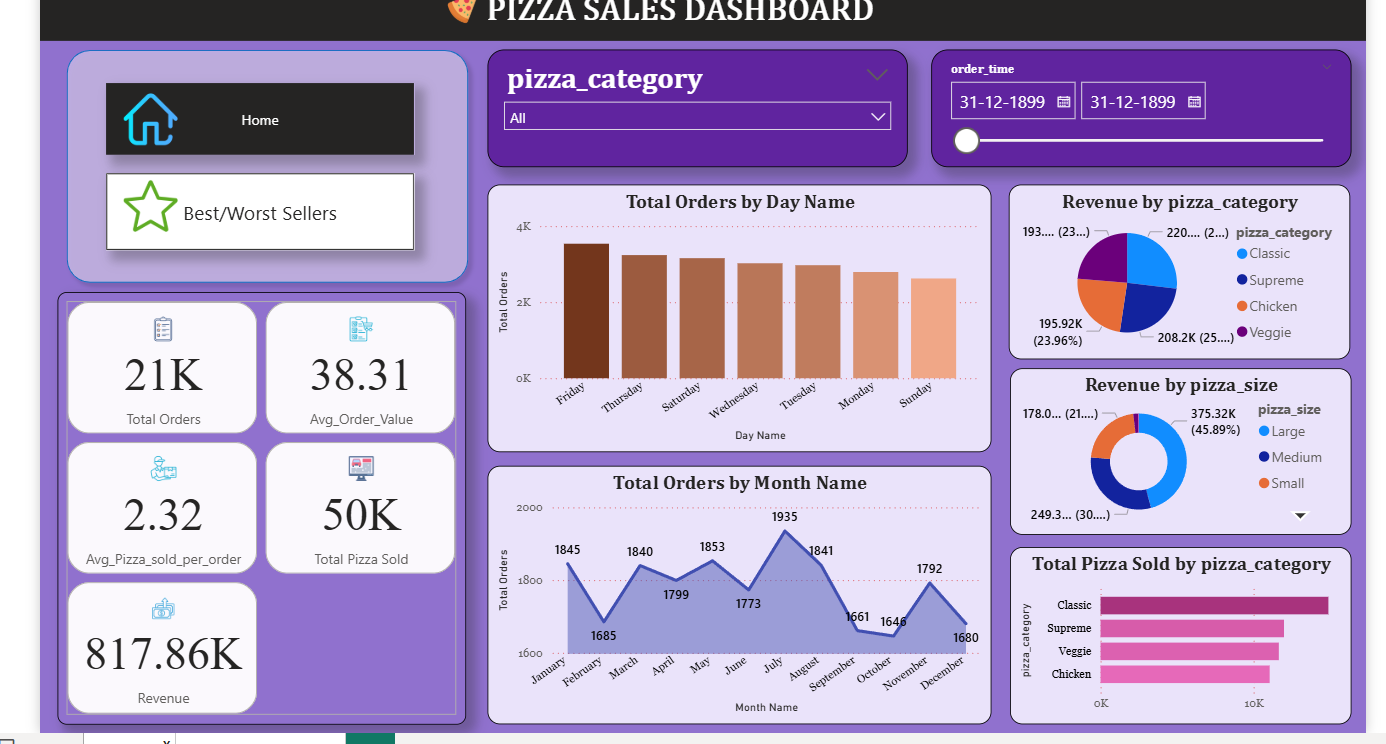

What the dashboard file says about the page in this screenshot:
{"tool":"powerbi","page":{"name":"Sales Overview","canvas":[1280,720],"ordinal":0},"visuals":[{"type":"textbox","box":[0,0,1280,51.9],"z":0},{"type":"image","box":[384.9,0,47.1,39.8],"z":1000},{"type":"slicer","fields":{"Values":["pizza_sales.pizza_category"]},"box":[431.9,60.3,405.4,113.4],"z":2000},{"type":"slicer","fields":{"Values":["pizza_sales.order_time"]},"box":[860.2,60.3,405.4,113.4],"z":3000},{"type":"shape","box":[16.9,51.9,405.4,242.5],"z":4000},{"type":"cardVisual","fields":{"Data":["pizza_sales.Total Orders","pizza_sales.Avg_Order_Value","pizza_sales.Avg_Pizza_sold_per_order","pizza_sales.Total Pizza Sold","pizza_sales.Revenue"]},"box":[16.9,294.4,394.5,417.4],"z":5000},{"type":"columnChart","fields":{"Category":["pizza_sales.Day Name"],"Y":["pizza_sales.Total Orders"]},"box":[431.9,190.6,486.2,258.2],"z":6000},{"type":"pieChart","fields":{"Category":["pizza_sales.pizza_category"],"Y":["pizza_sales.Revenue"]},"box":[935,190.6,329.4,168.9],"z":7000},{"type":"donutChart","fields":{"Category":["pizza_sales.pizza_size"],"Y":["pizza_sales.Revenue"]},"box":[936.2,368,329.4,160.5],"z":8000},{"type":"clusteredBarChart","fields":{"Category":["pizza_sales.pizza_category"],"Y":["pizza_sales.Total Pizza Sold"]},"box":[936.2,540.5,329.4,171.3],"z":9000},{"type":"areaChart","fields":{"Y":["pizza_sales.Total Orders"],"Category":["pizza_sales.Month Name"]},"box":[431.9,462.1,486.2,249.7],"z":10000},{"type":"pageNavigator","box":[63.9,92.9,298,70],"z":11000},{"type":"pageNavigator","box":[63.9,179.8,298,74.8],"z":12000},{"type":"image","box":[76,92.9,61.5,70],"z":13000},{"type":"image","box":[76,179.8,61.5,63.9],"z":14000}]}

Visuals, with their boxes on the page's 1280x720 design canvas (x1, y1, x2, y2). These are canvas units, not pixel positions in the 1386x744 screenshot, which may show the page scaled, cropped or inside an application window:
textbox: (left=0, top=0, right=1280, bottom=52)
image: (left=385, top=0, right=432, bottom=40)
slicer - pizza_sales.pizza_category: (left=432, top=60, right=837, bottom=174)
slicer - pizza_sales.order_time: (left=860, top=60, right=1266, bottom=174)
shape: (left=17, top=52, right=422, bottom=294)
cardVisual - pizza_sales.Total Orders x pizza_sales.Avg_Order_Value: (left=17, top=294, right=411, bottom=712)
columnChart - pizza_sales.Day Name x pizza_sales.Total Orders: (left=432, top=191, right=918, bottom=449)
pieChart - pizza_sales.pizza_category x pizza_sales.Revenue: (left=935, top=191, right=1264, bottom=360)
donutChart - pizza_sales.pizza_size x pizza_sales.Revenue: (left=936, top=368, right=1266, bottom=528)
clusteredBarChart - pizza_sales.pizza_category x pizza_sales.Total Pizza Sold: (left=936, top=540, right=1266, bottom=712)
areaChart - pizza_sales.Total Orders x pizza_sales.Month Name: (left=432, top=462, right=918, bottom=712)
pageNavigator: (left=64, top=93, right=362, bottom=163)
pageNavigator: (left=64, top=180, right=362, bottom=255)
image: (left=76, top=93, right=138, bottom=163)
image: (left=76, top=180, right=138, bottom=244)
